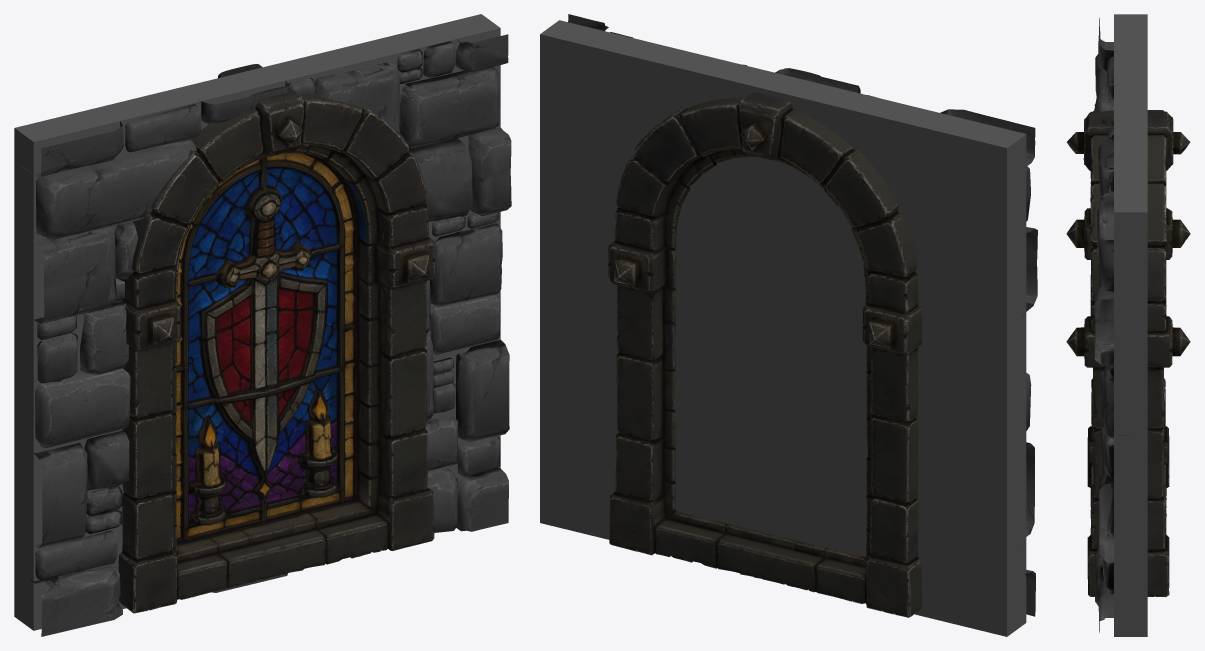
The model's file is Wall_StainedGlass.fbx.
The picture shows the model from 3 angles, left to right: view 1: azimuth 30°, elevation 25°; view 2: azimuth 150°, elevation 25°; view 3: azimuth 270°, elevation 25°; orthographic projection. The views are drawn at different scales.
Visible parts, largest first — view 1: Wall_StainedGlass_Sword; view 2: Wall_StainedGlass_Sword; view 3: Wall_StainedGlass_Sword.
Boxes of the visible parts, x1,y1,x2,y2 form: Wall_StainedGlass_Sword: (14,14,511,636); Wall_StainedGlass_Sword: (540,14,1037,636); Wall_StainedGlass_Sword: (1066,14,1190,636).
Size of the model in its own units: 302 by 300 by 79.7.
Materials: 4 (3 with a texture image).
